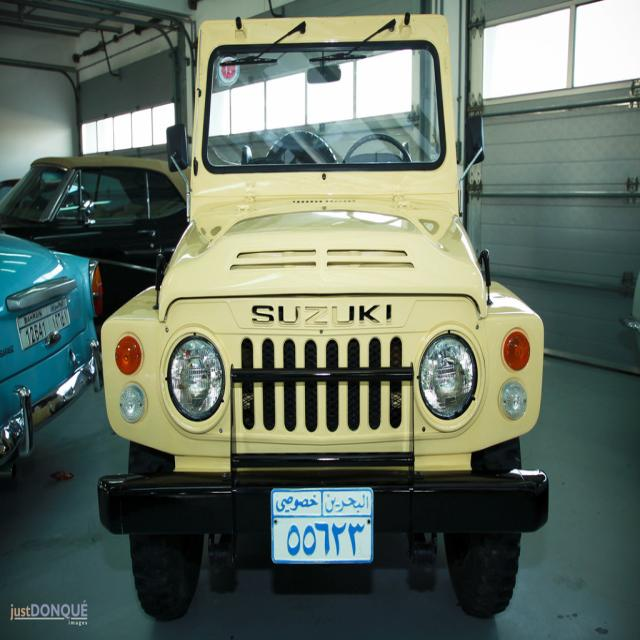car: (63, 0, 559, 622), (0, 141, 187, 313), (0, 224, 102, 458)
